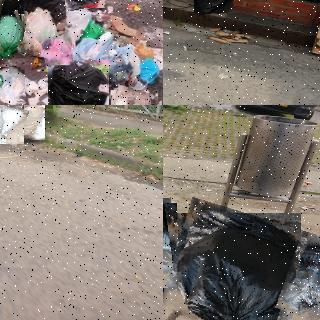Garbage: (163, 205, 308, 320), (281, 235, 320, 320), (48, 60, 109, 105), (19, 4, 58, 57), (0, 12, 28, 59), (9, 106, 45, 142), (0, 105, 26, 145), (0, 66, 26, 105), (108, 87, 160, 105), (44, 36, 72, 66), (193, 0, 233, 14), (64, 0, 105, 9)
